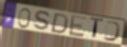0: (17, 8, 32, 30)
D: (49, 12, 70, 35), (102, 20, 122, 43)
E: (68, 14, 87, 38)
S: (32, 10, 53, 32)
T: (89, 17, 105, 41)
